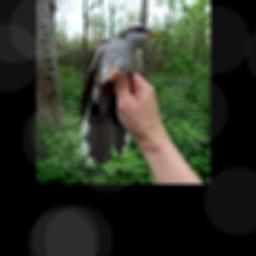Cuckoo: (80, 25, 166, 164)
